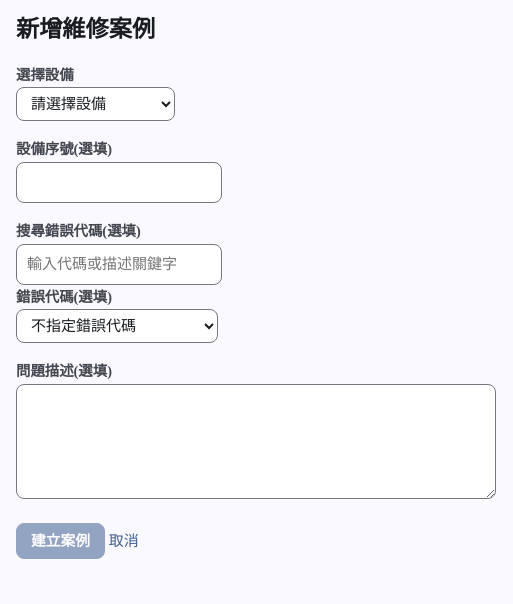
Scenario: NewMaintenanceCasePage (E07-S002) › shows a distinct error alert when creation fails, does not navigate away, and keeps the selection
Select "3 號生產線包裝機" in the dropdown labelled "選擇設備" at (96,104), box [16,88,175,122]
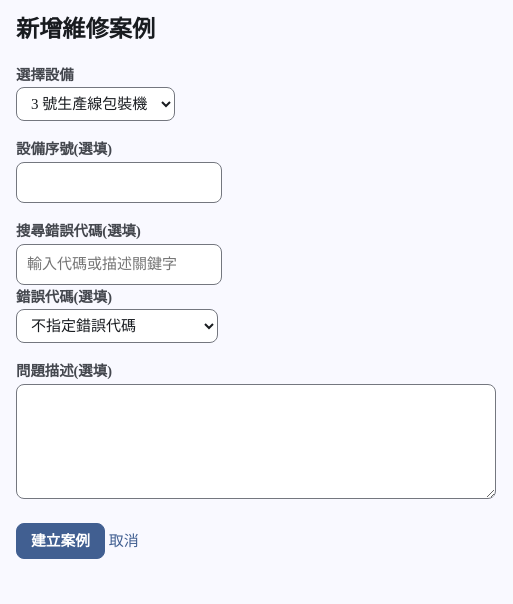
Click the button "建立案例".
click(60, 541)  # box [16,523,105,559]
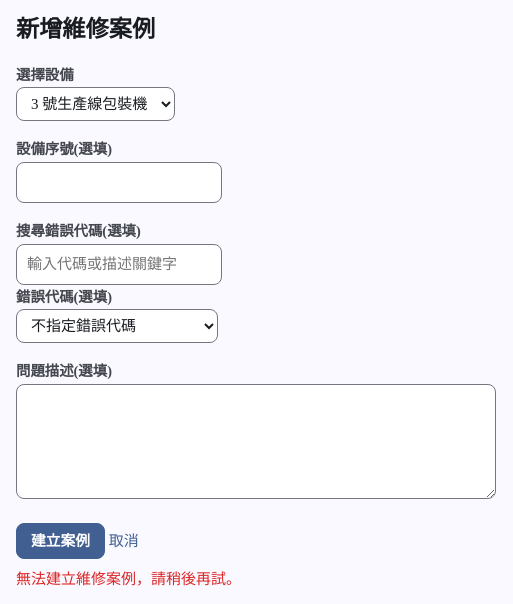
Expected: the message shows "無法建立維修案例", [16,571,241,587]
